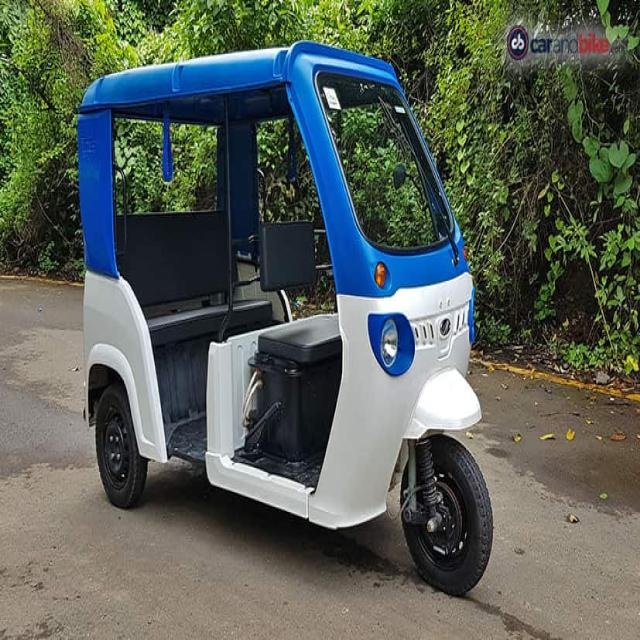autorickshaw: (78, 43, 492, 593)
